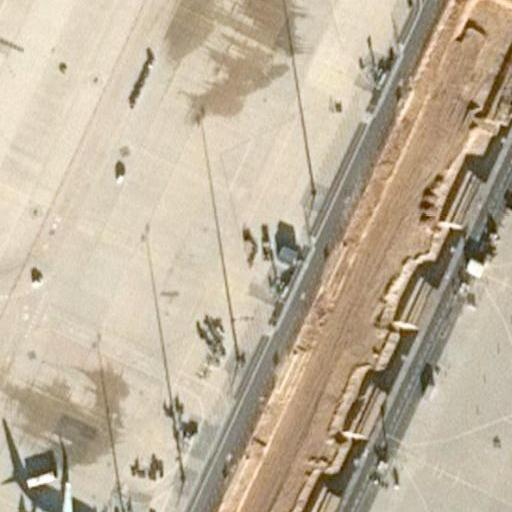Aircraft: (5, 467, 107, 512), (6, 469, 108, 512)
